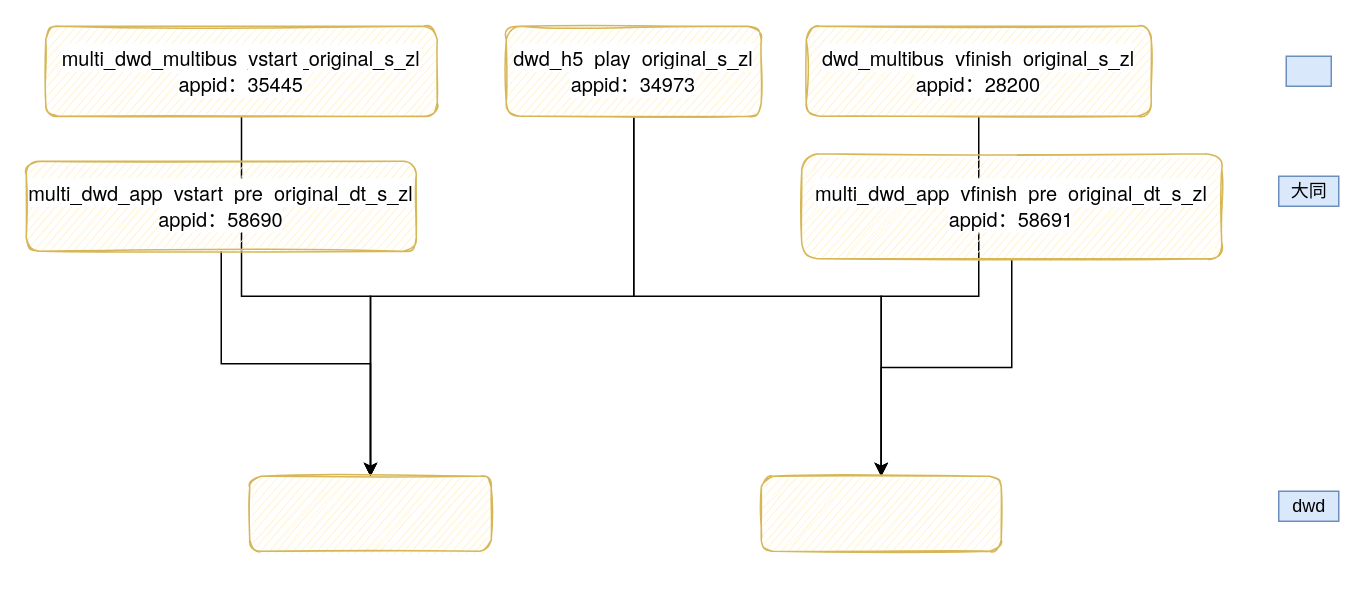
Some shapes in this 1365 by 590 pixel diagram are drawn without their labels. The shapes that lost their labels are listed below. From the top down, each one's box as (x1, y1, x2, y2) in pixels, then its label:
(1285, 55, 1331, 86): VR
(248, 475, 491, 551): dwd_app_vstart_s_zl appid： 36047
(760, 475, 1001, 551): dwd_app_vfinish_s_zl appid： 35925
